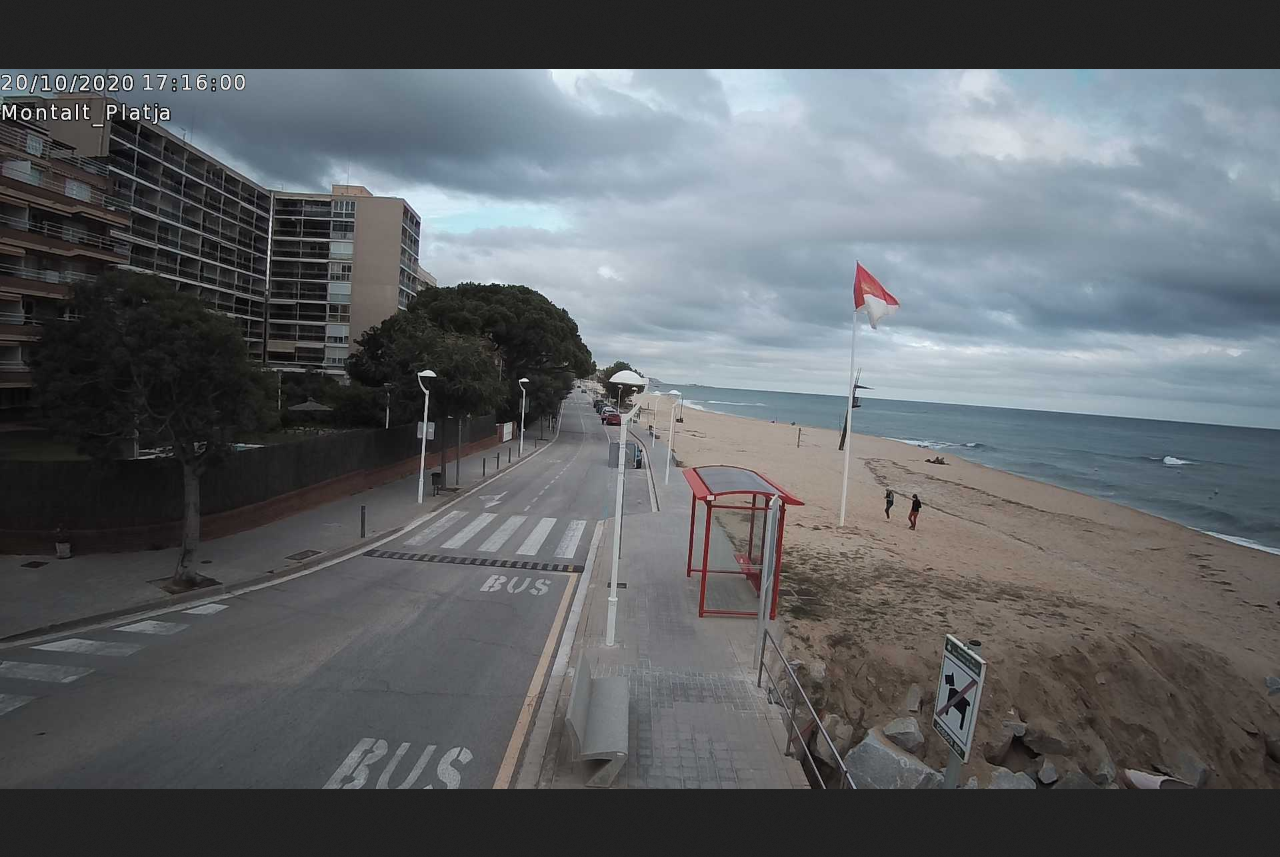maybe: (848, 253, 913, 333)
